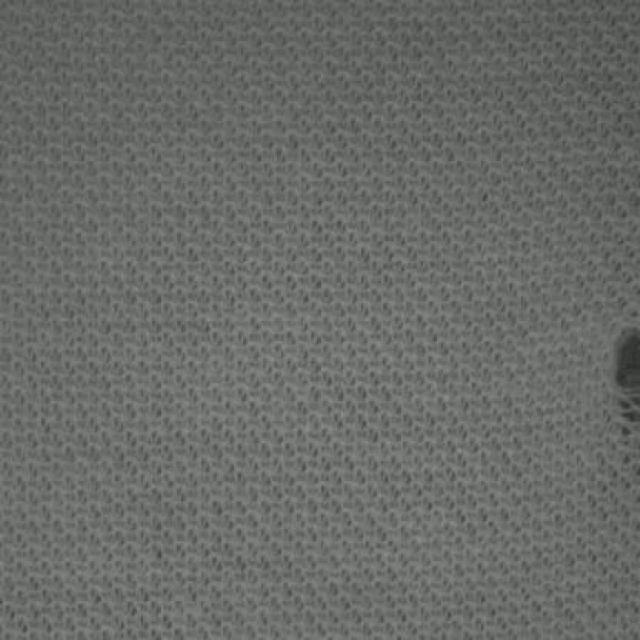Hole: (615, 329, 640, 433)
